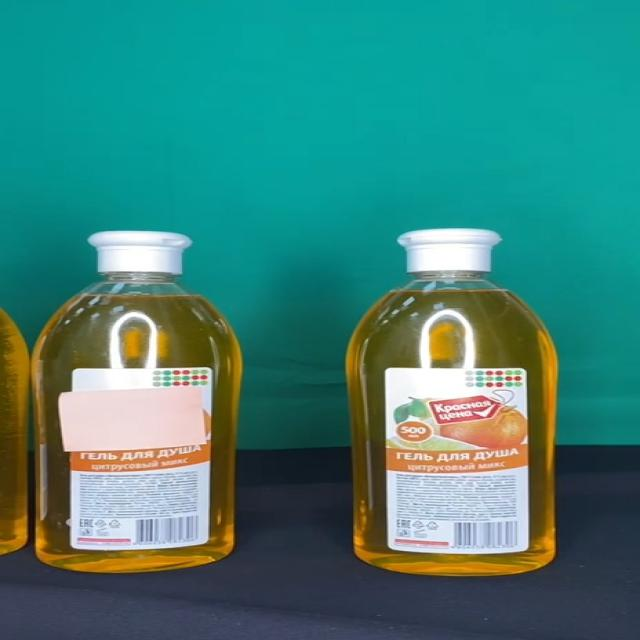Bottle: (345, 227, 560, 576), (30, 230, 245, 573)
Cap: (398, 228, 504, 272), (87, 230, 193, 274)
